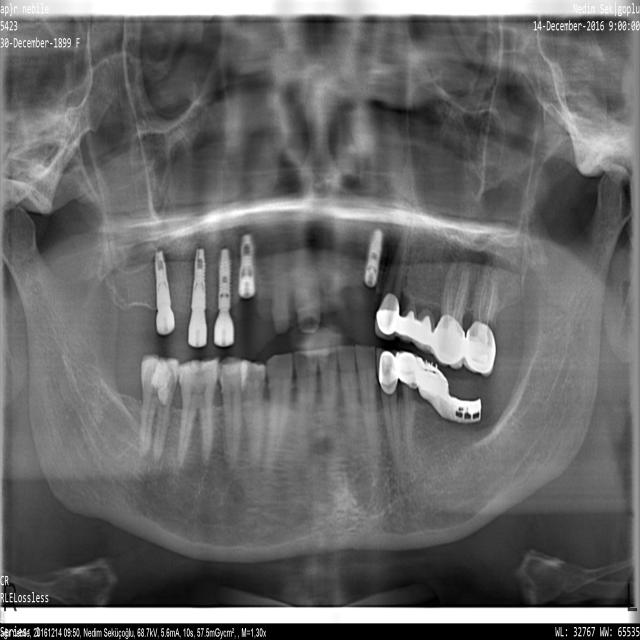Canine: (375, 217, 411, 339), (264, 353, 291, 476), (376, 348, 400, 469)
Incisores: (294, 350, 319, 453), (355, 345, 377, 456), (296, 241, 319, 333), (338, 346, 357, 438), (273, 240, 288, 334), (318, 347, 336, 419)
Premolars: (217, 358, 246, 472), (412, 254, 444, 354), (241, 361, 264, 469), (400, 242, 424, 341), (397, 353, 416, 462)
molars: (176, 357, 219, 469), (139, 355, 179, 465), (463, 266, 500, 377), (438, 263, 469, 369)
